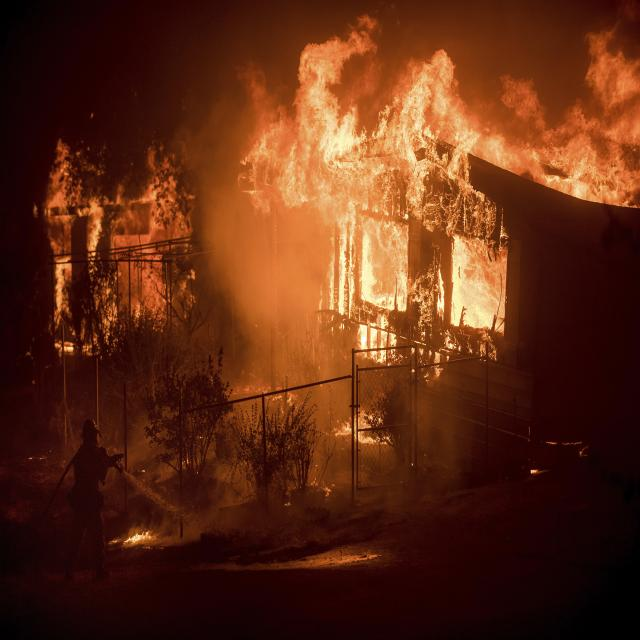Fire: (45, 45, 640, 397)
